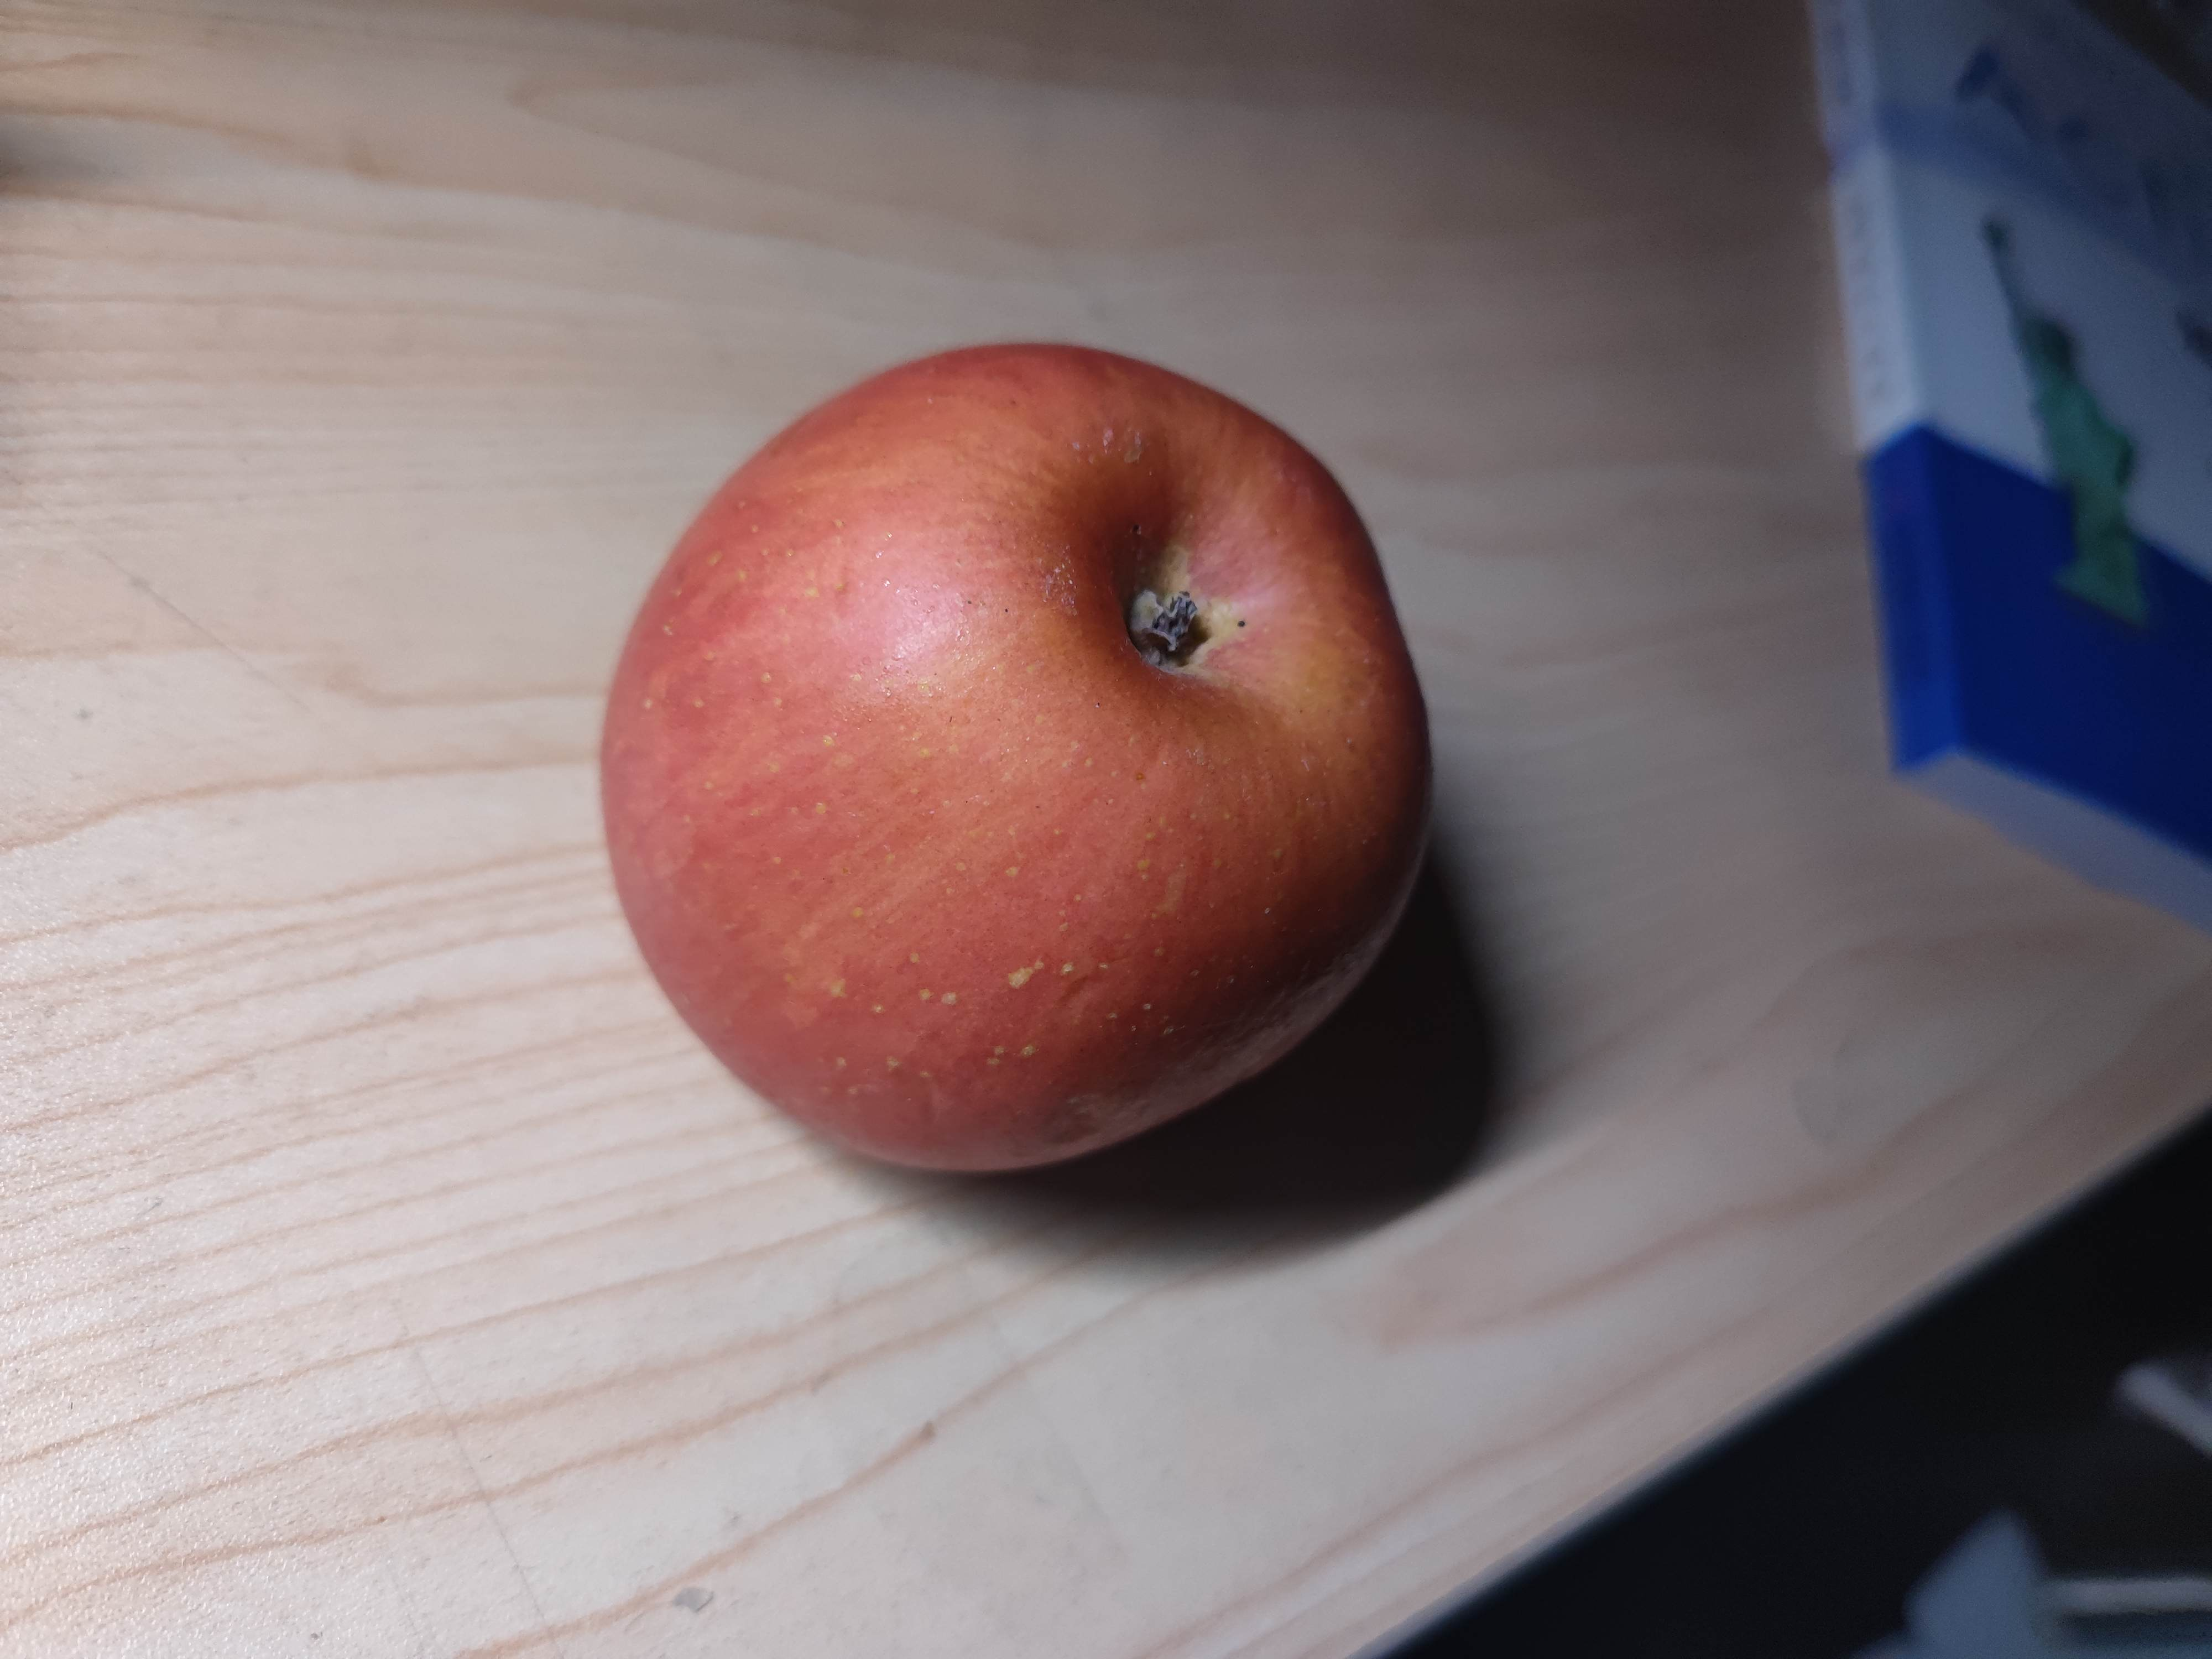apple: (590, 342, 1439, 1188)
